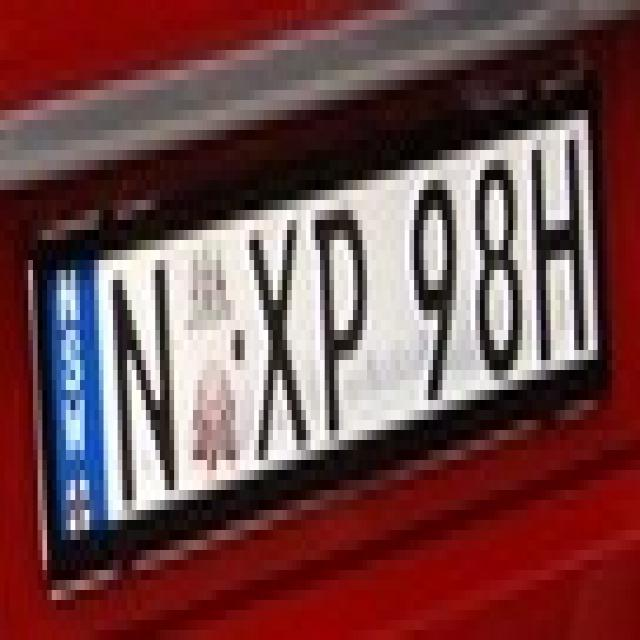LicensePlate: (20, 63, 615, 597)
